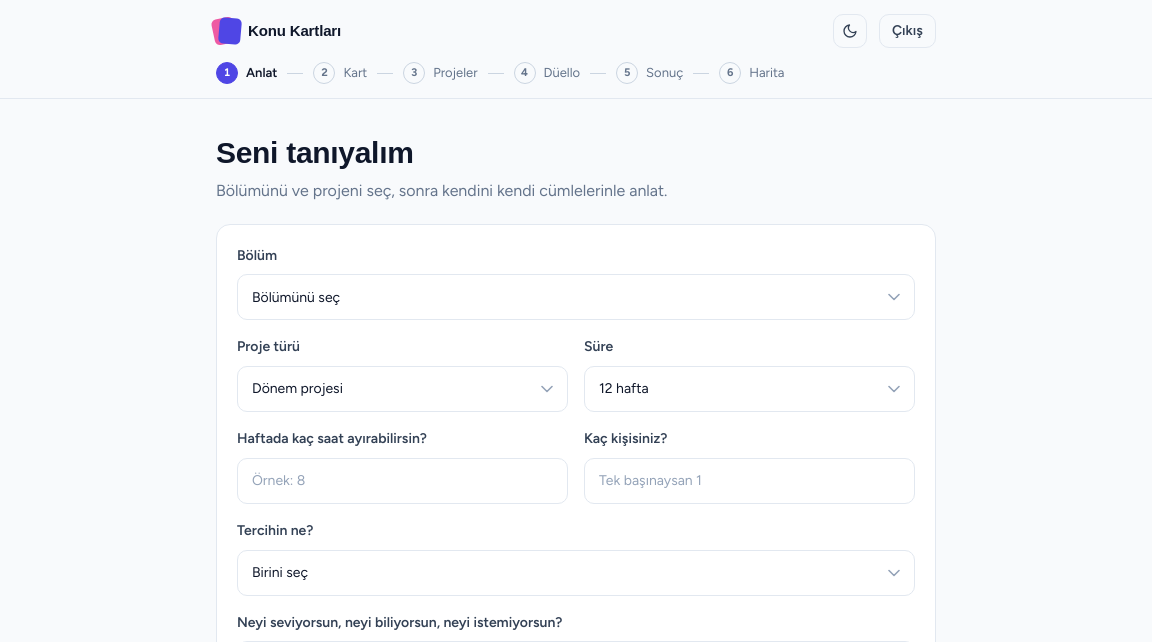
it: Seni tanıyalım (Anlat) › "Diğer" seçilince bölüm adı kutusu açılır
Expected: the field labelled "Bölümünün adı" is not shown
Select "Diğer (bölümünü yaz)" in the dropdown labelled "Bölüm": (576, 298) [237,274,915,320]
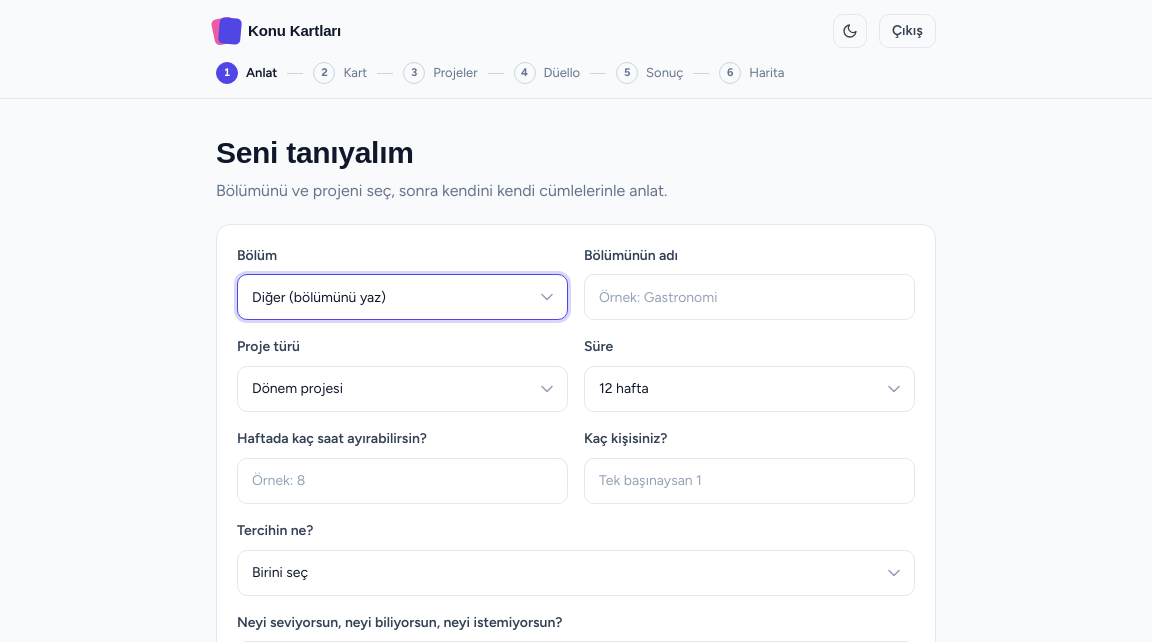
Expected: the field labelled "Bölümünün adı" is shown, [584,274,915,320]
